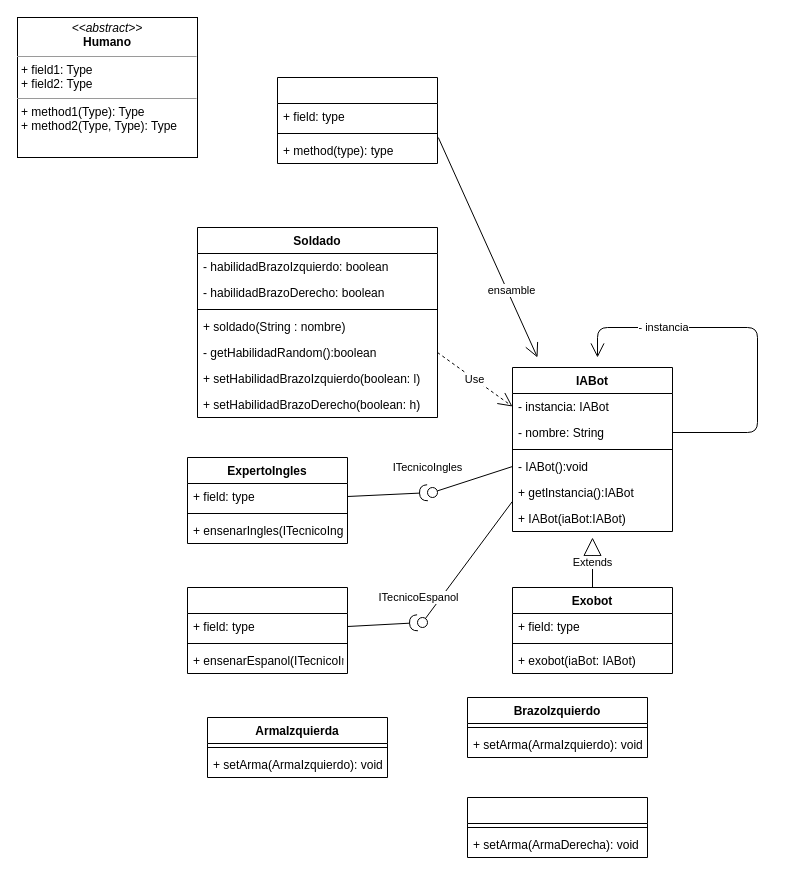
This 789x878 diagram has some shape labels left out. Each missing label, with the box of its shape:
BrazoDerecho: (466, 796, 648, 858)
ExpertoEspanol: (186, 586, 348, 674)
Mecatronico: (276, 76, 438, 164)
